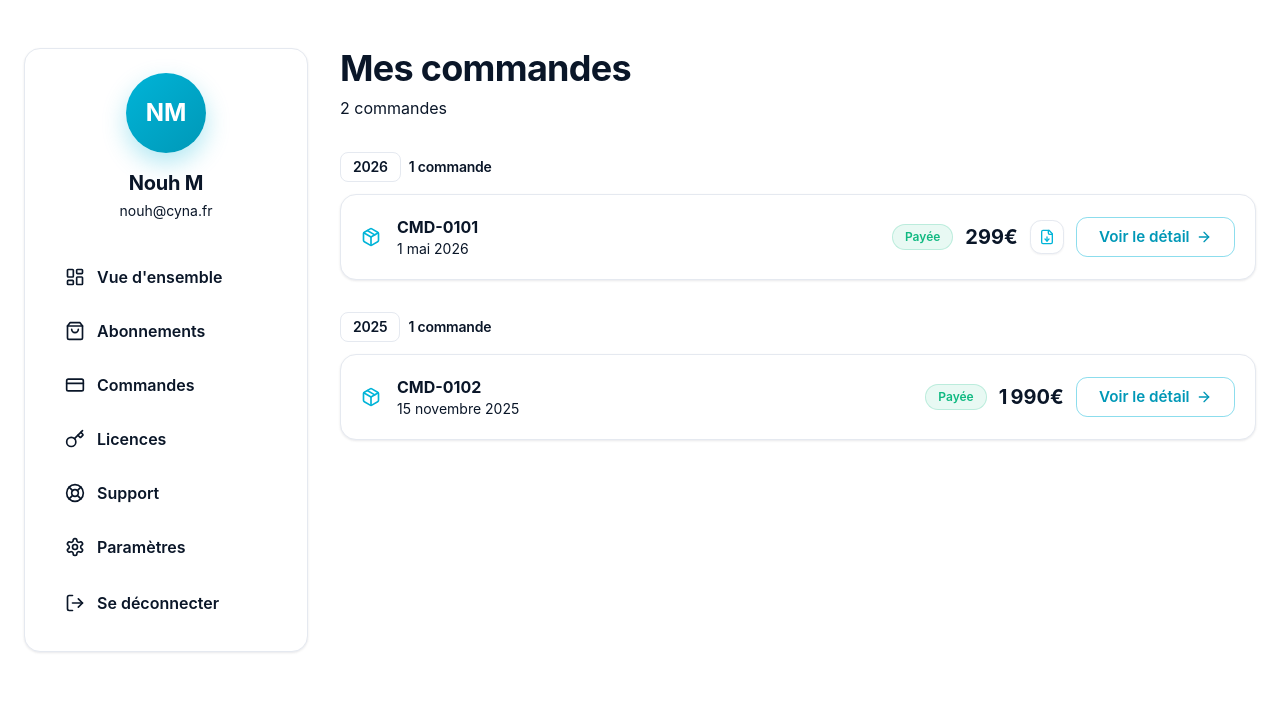
Scenario: téléchargement facture › appelle /api/invoices/:id/download au clic et affiche une erreur en cas d'échec
This screenshot has width=1280, height=720.
expect the text "CMD-0101" is shown: met, box [397, 215, 478, 239]
Click the button titled "télécharger la facture" at (1047, 237), box [1030, 220, 1064, 254]
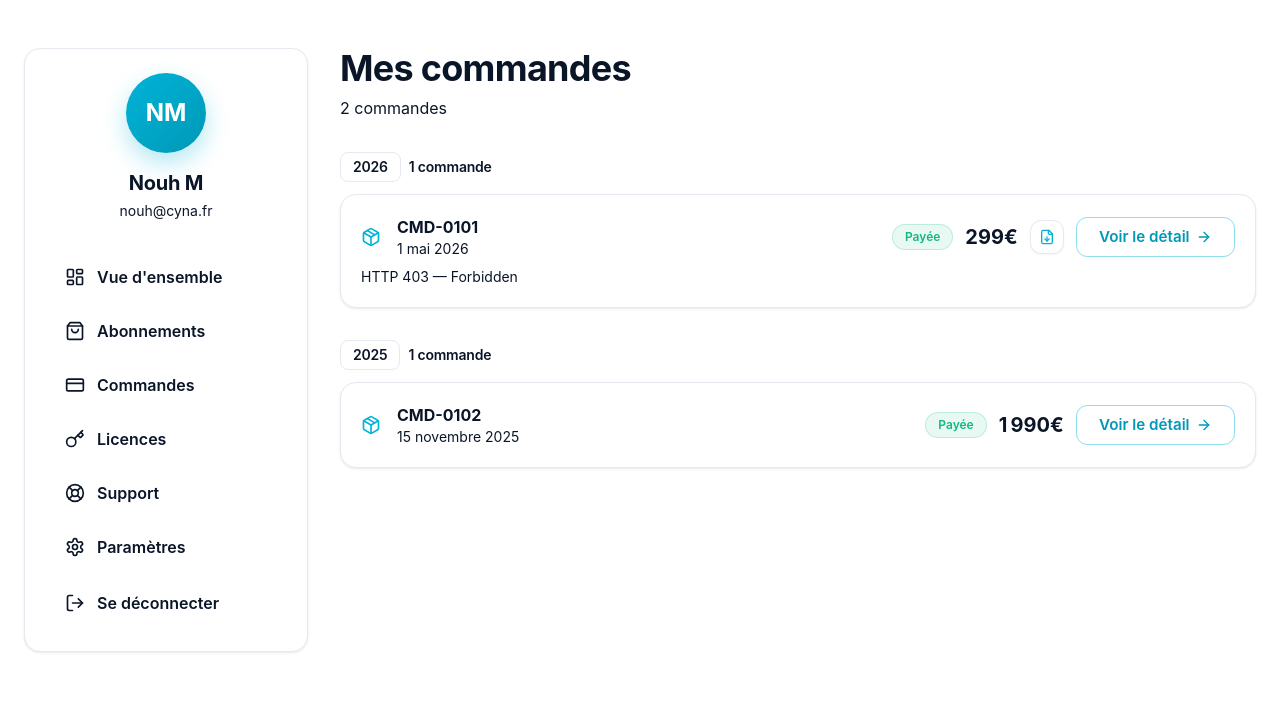
expect the text "HTTP 403 — Forbidden" is shown: met, box [361, 268, 518, 285]
